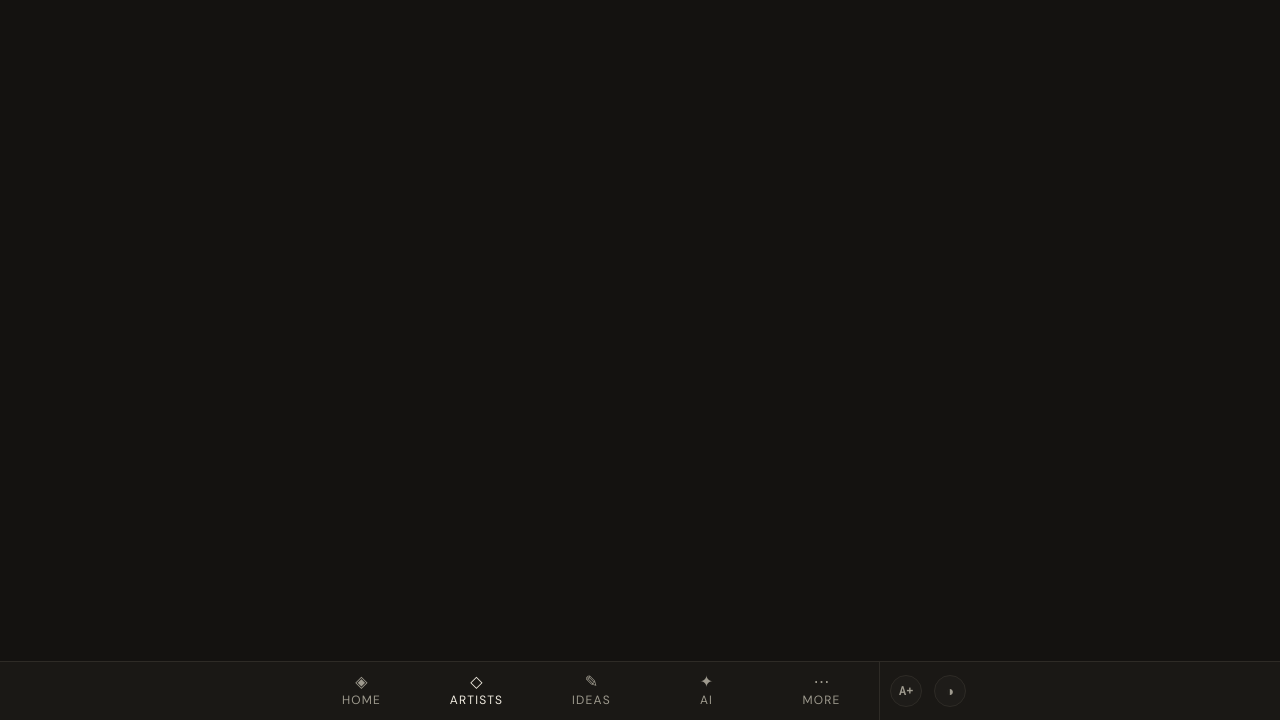
Test case: Nav › lists Radar, Studios, Settings and Help in the More menu
The width and height of the screenshot is (1280, 720).
Click the button "⋯ More". click: (822, 691)
box: [764, 662, 879, 719]
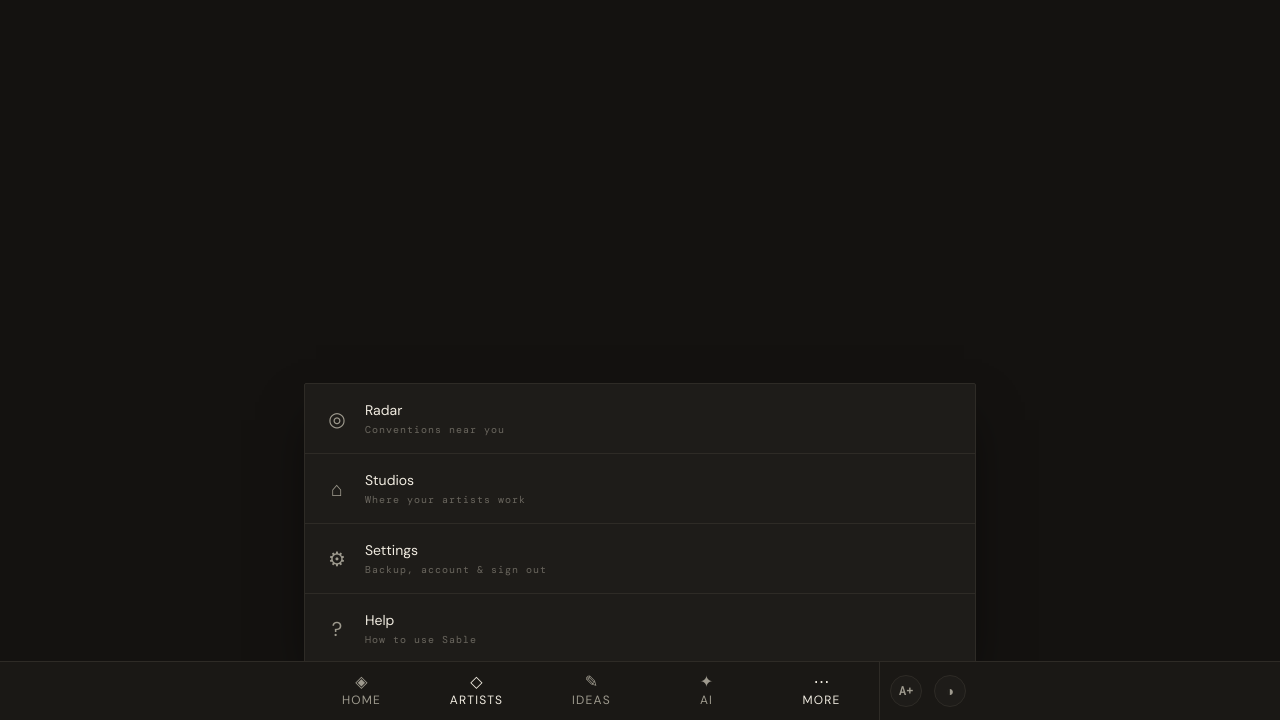
Result: the text "Radar" is shown at [365, 401, 402, 419]
Result: the text "Conventions near you" is shown at [365, 422, 505, 437]
Result: the text "Studios" is shown at [365, 471, 414, 489]
